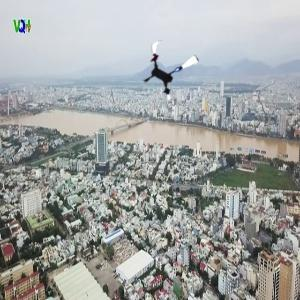drone: (138, 38, 203, 103)
